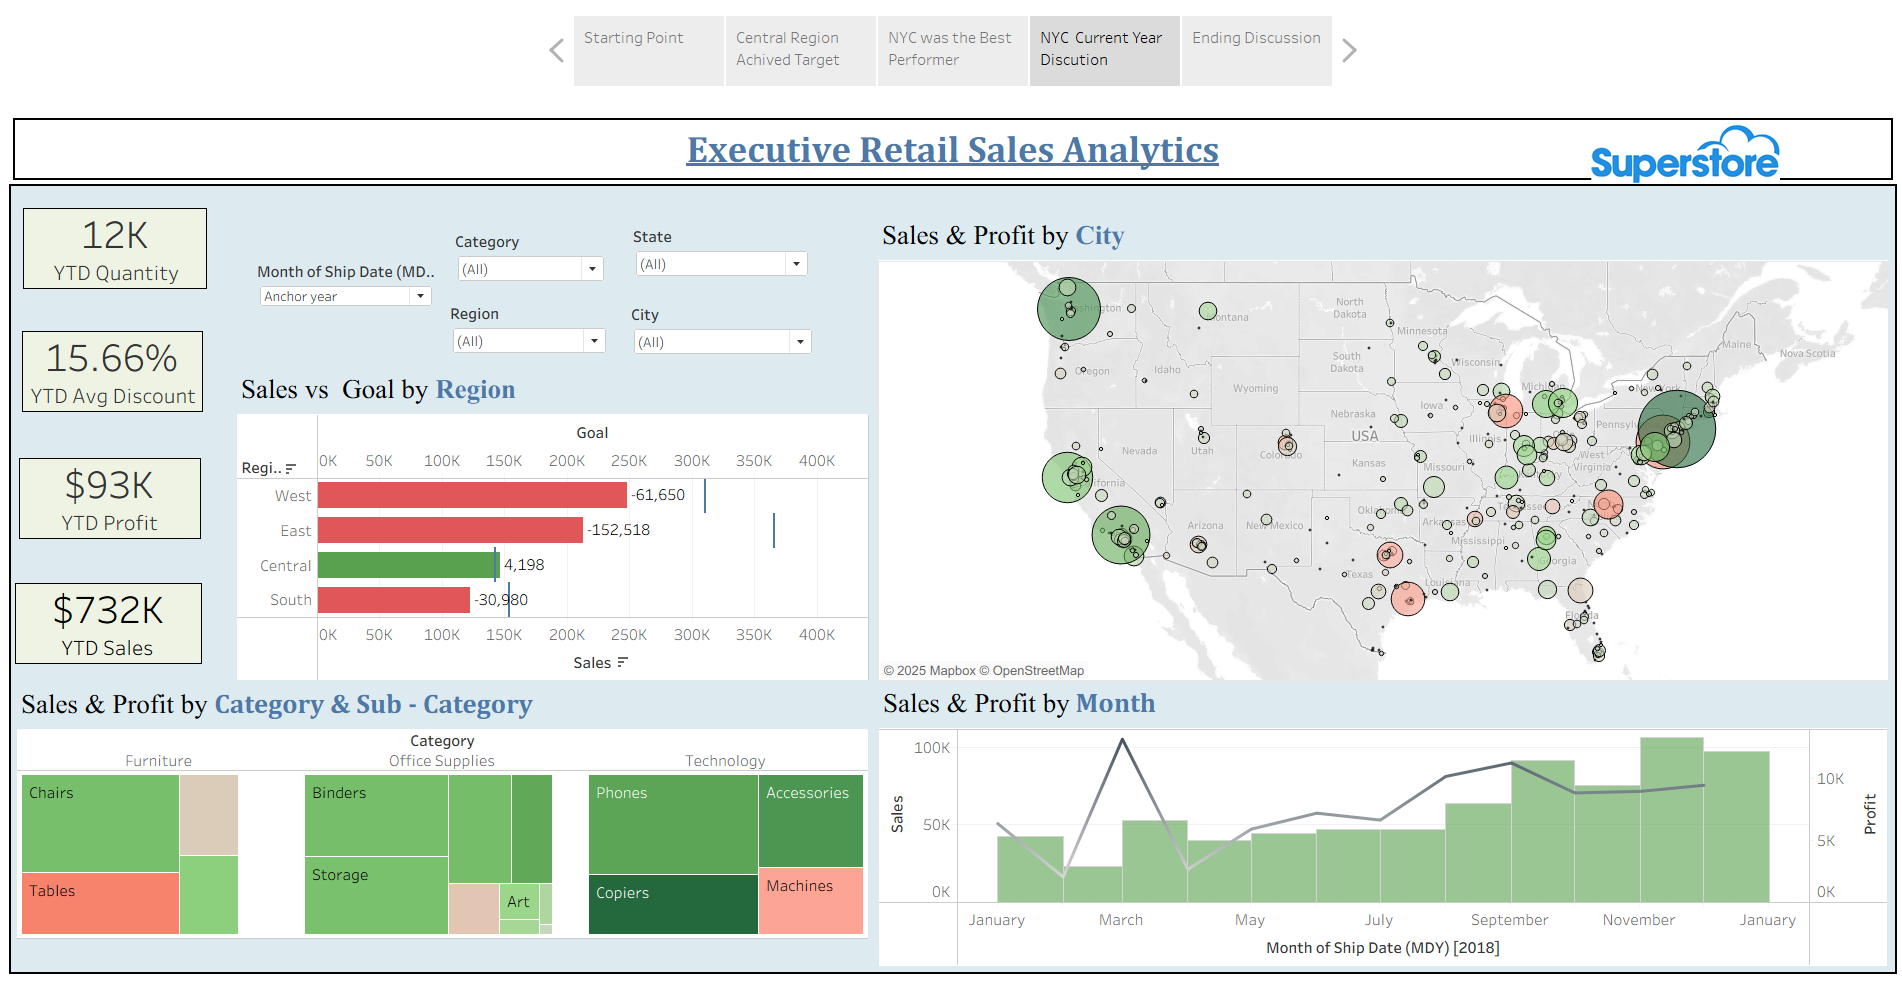

The page's visual inventory and layout, read from the dashboard file:
{"tool":"tableau","page":{"name":"Dashboard 1","canvas":[1000,1000],"units":"permille","ordinal":0},"visuals":[{"type":"title","box":[4.8,10,990.3,87.4]},{"type":"image","param":"Image/download.png","box":[835.2,20,109.8,67.4]},{"type":"worksheet","title":"Sheet 6 (3)","mark":"Automatic","box":[11.5,116.1,112.9,107.4]},{"type":"worksheet","title":"Sheet 3","mark":"Automatic","box":[460.5,126.1,531.1,530.6]},{"type":"filter","title":"Sheet 3","param":"[federated.0hnb2jl033wxgv19xz3st11ub5jo].[none:State:nk]","box":[331.9,137.3,93.5,72.4]},{"type":"filter","title":"Sheet 4","param":"[federated.0hnb2jl033wxgv19xz3st11ub5jo].[none:Category:nk]","box":[238.4,142.3,79.7,76.2]},{"type":"filter","title":"Sheet 5","param":"[federated.0hnb2jl033wxgv19xz3st11ub5jo].[tmn:Ship Date (MDY):qk]","box":[134.6,177.3,93.5,72.4]},{"type":"filter","title":"Sheet 2","param":"[federated.0hnb2jl033wxgv19xz3st11ub5jo].[none:Region:nk]","box":[236,224.7,83.3,73.7]},{"type":"filter","title":"Sheet 3","param":"[federated.0hnb2jl033wxgv19xz3st11ub5jo].[none:City:nk]","box":[330.7,226,96.6,82.4]},{"type":"worksheet","title":"Sheet 6 (4)","mark":"Automatic","box":[10.9,257.2,109.8,101.1]},{"type":"worksheet","title":"Sheet 2","mark":"Automatic","rows":["Region"],"cols":["Sales","Goal"],"box":[123.7,300.9,331.9,354.6]},{"type":"worksheet","title":"Sheet 6 (2)","mark":"Automatic","box":[9.7,402,111,103.6]},{"type":"worksheet","title":"Sheet 6","mark":"Automatic","box":[7.2,544.3,113.5,112.4]},{"type":"worksheet","title":"Sheet 5","mark":"Automatic","rows":["Sales","Profit"],"cols":["Ship Date (MDY)"],"box":[461.1,657.9,529.9,324.6]},{"type":"worksheet","title":"Sheet 4","mark":"Automatic","cols":["Category"],"box":[8.4,659.2,447.2,320.9]}]}

Visuals, with their boxes on the dashboard's canvas, which has no fixed pixel size, in thousandths of its width and height (x1, y1, x2, y2). These are canvas units, not pixel positions in the 1902x986 screenshot, which may show the page scaled, cropped or inside an application window:
title: bbox=(5, 10, 995, 97)
image: bbox=(835, 20, 945, 87)
"Sheet 6 (3)" worksheet: bbox=(12, 116, 124, 224)
"Sheet 3" worksheet: bbox=(460, 126, 992, 657)
"Sheet 3" filter: bbox=(332, 137, 425, 210)
"Sheet 4" filter: bbox=(238, 142, 318, 218)
"Sheet 5" filter: bbox=(135, 177, 228, 250)
"Sheet 2" filter: bbox=(236, 225, 319, 298)
"Sheet 3" filter: bbox=(331, 226, 427, 308)
"Sheet 6 (4)" worksheet: bbox=(11, 257, 121, 358)
"Sheet 2" worksheet: bbox=(124, 301, 456, 656)
"Sheet 6 (2)" worksheet: bbox=(10, 402, 121, 506)
"Sheet 6" worksheet: bbox=(7, 544, 121, 657)
"Sheet 5" worksheet: bbox=(461, 658, 991, 982)
"Sheet 4" worksheet: bbox=(8, 659, 456, 980)
